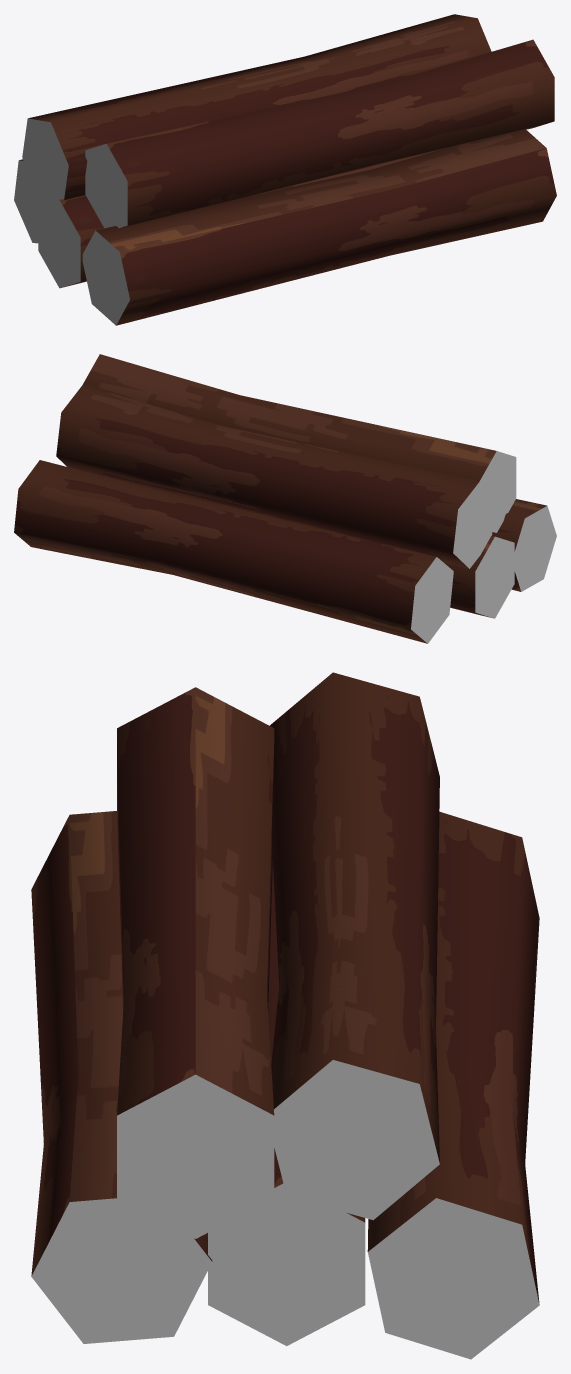
The model's file is SM_PROP_treetrunk_03.fbx.
3 views of the same model, one above another, from view 1: azimuth 30°, elevation 25°; view 2: azimuth 150°, elevation 25°; view 3: azimuth 270°, elevation 25° (orthographic). The views are drawn at different scales.
Parts seen in each view (by area): view 1: SM_PROP_treetrunk_03; view 2: SM_PROP_treetrunk_03; view 3: SM_PROP_treetrunk_03.
Boxes of the visible parts, left/top/right/bottom form: SM_PROP_treetrunk_03: left=14, top=14, right=556, bottom=325; SM_PROP_treetrunk_03: left=14, top=354, right=556, bottom=643; SM_PROP_treetrunk_03: left=31, top=672, right=539, bottom=1359.
Size of the model in its own units: 484 by 162 by 255.
